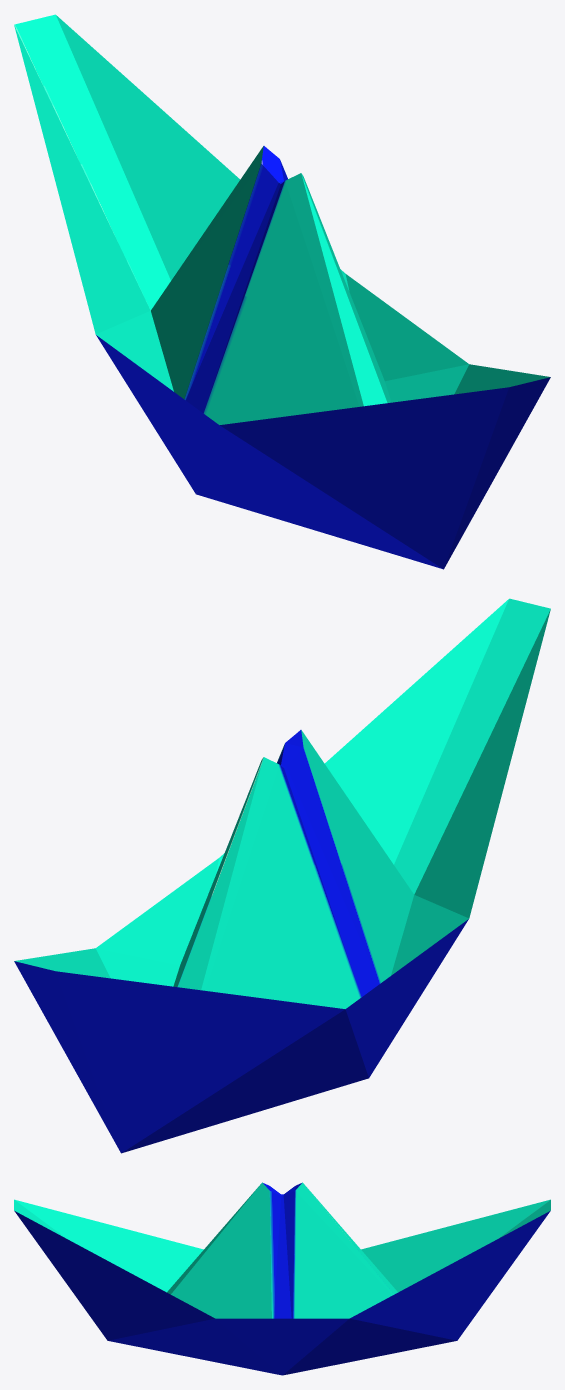
Rendered from boat.glb.
The picture shows the model from 3 angles, top to bottom: view 1: azimuth 30°, elevation 25°; view 2: azimuth 150°, elevation 25°; view 3: azimuth 270°, elevation 25°; orthographic projection. The views are drawn at different scales.
Parts seen in each view (by area): view 1: Bopat.005; view 2: Bopat.005; view 3: Bopat.005.
Part boxes in pixels (bbox=[...]): Bopat.005: bbox=[14, 14, 550, 569]; Bopat.005: bbox=[14, 598, 550, 1153]; Bopat.005: bbox=[14, 1182, 550, 1375].
Bounding box in the file's own units: 0.7463 × 0.8963 × 2.56.
Materials: 1 (1 with a texture image).
